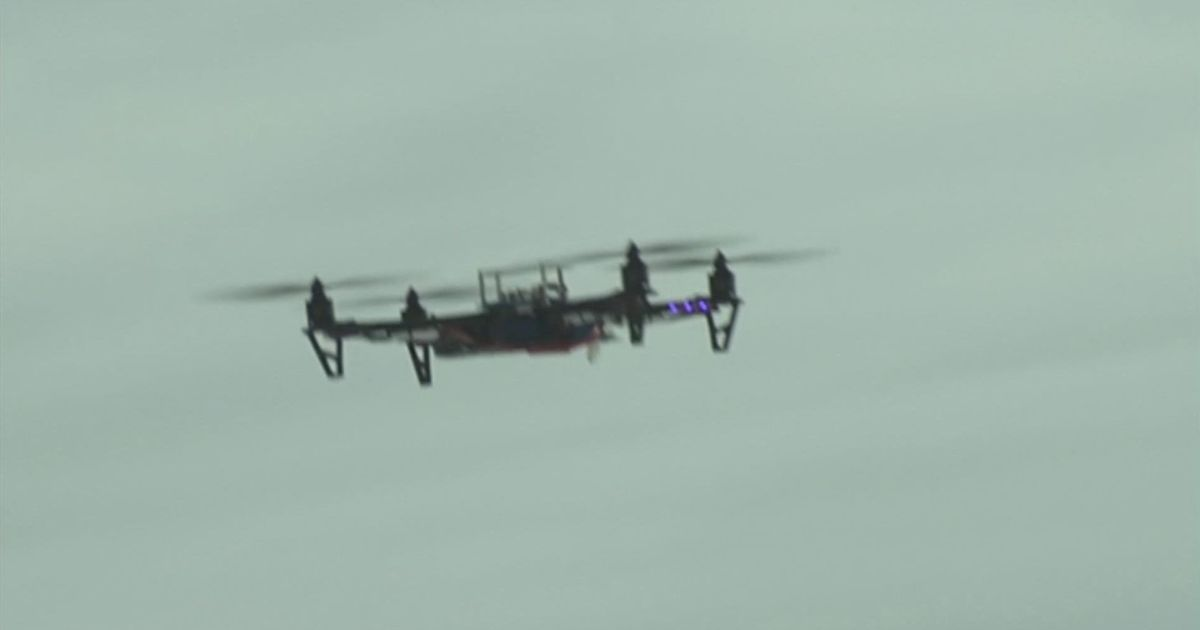drone: (194, 221, 838, 393)
